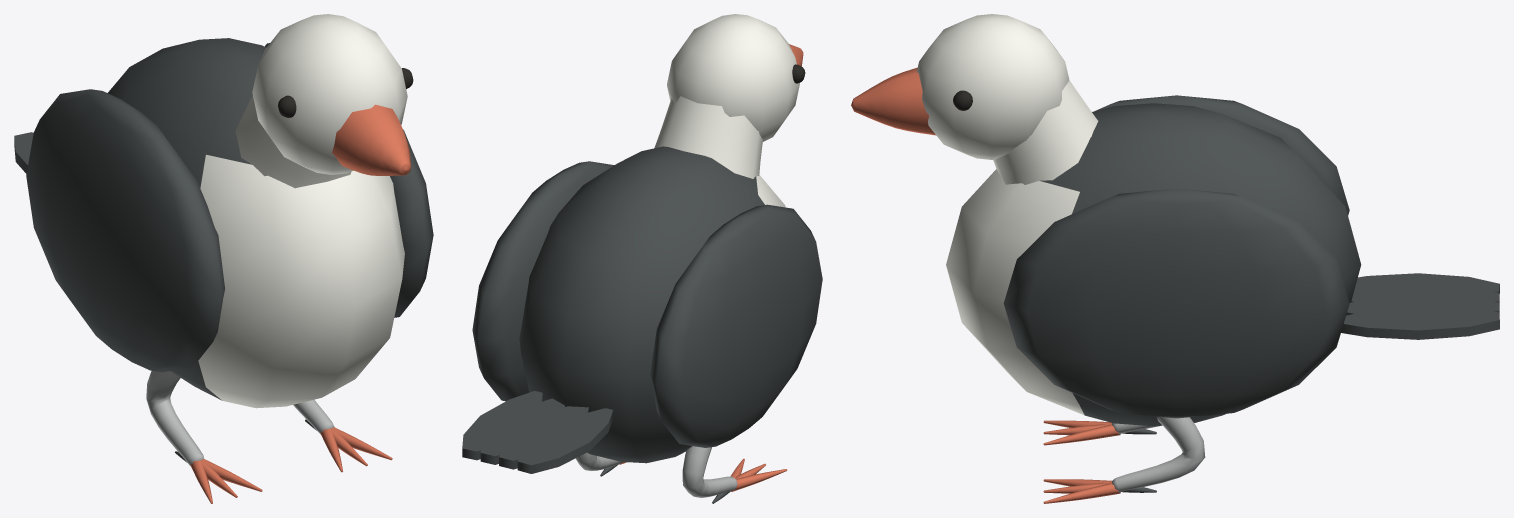
The model's file is birds-and-flying-creatures-atlantic-puffin-de3d4a5f__20602.glb.
3 renders of one model, left to right at view 1: azimuth 30°, elevation 25°; view 2: azimuth 150°, elevation 25°; view 3: azimuth 270°, elevation 25°, orthographic. The views are drawn at different scales.
Parts seen in each view (by area): view 1: atlantic-puffin; view 2: atlantic-puffin; view 3: atlantic-puffin.
Part boxes in pixels (x1,y1,x2,y2): atlantic-puffin: (14,14,433,503); atlantic-puffin: (462,14,822,503); atlantic-puffin: (851,14,1499,503).
Size of the model in its own units: 0.1774 by 0.2886 by 0.3825.
